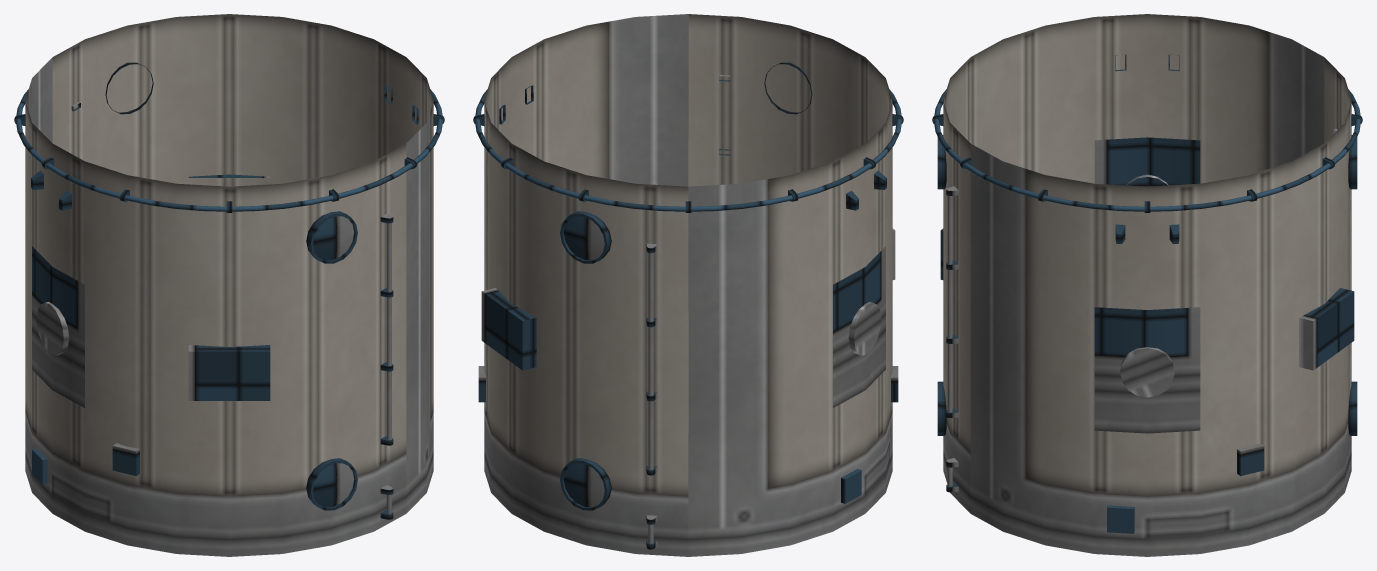
Rendered from priroda_core.obj.
3 views of the same model, side by side, from view 1: azimuth 30°, elevation 25°; view 2: azimuth 150°, elevation 25°; view 3: azimuth 270°, elevation 25° (orthographic).
Visible parts, largest first — view 1: 1, w1; view 2: 1, w1; view 3: 1.
Boxes of the visible parts, <box> form: 1: <box>14,14,444,556</box>; w1: <box>313,216,354,507</box>; 1: <box>473,14,903,556</box>; w1: <box>563,216,604,507</box>; 1: <box>932,14,1362,556</box>.
Bounding box in the file's own units: 1.98 × 1.88 × 1.98.
